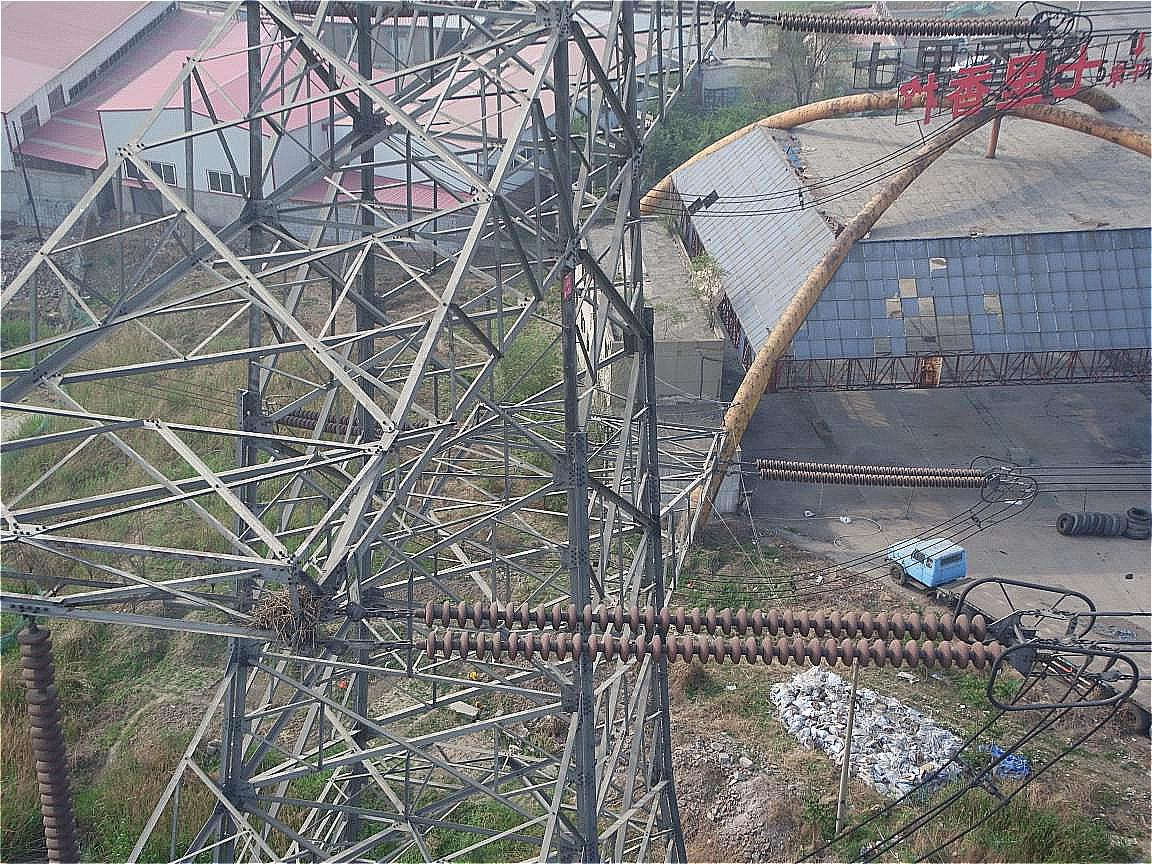insultor1: (395, 580, 1017, 676)
insultor2: (740, 451, 995, 492)
